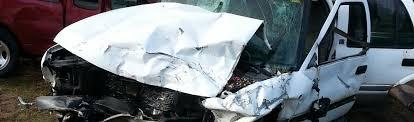bonnet-dent: (69, 0, 260, 85)
fender-dent: (235, 77, 310, 120)
